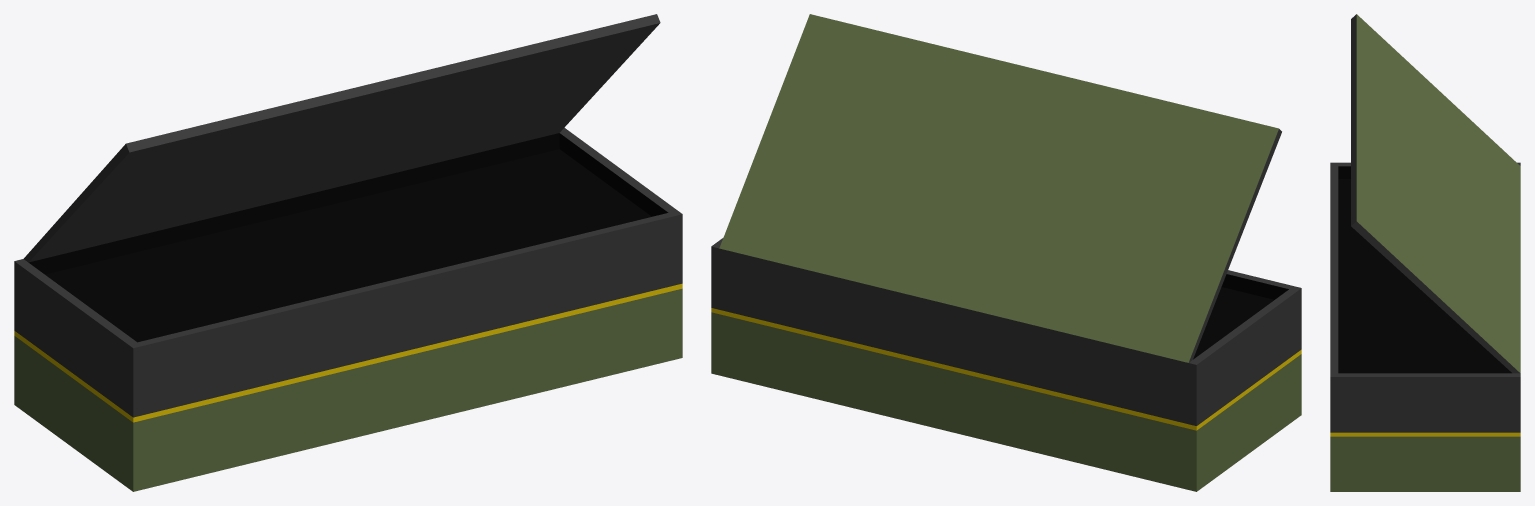
File: Box of Screws.fbx
The picture shows the model from 3 angles, left to right: view 1: azimuth 30°, elevation 25°; view 2: azimuth 150°, elevation 25°; view 3: azimuth 270°, elevation 25°; orthographic projection. The views are drawn at different scales.
Parts seen in each view (by area): view 1: Box of Screws; view 2: Box of Screws; view 3: Box of Screws.
Part boxes in pixels (bbox=[...]): Box of Screws: bbox=[14, 14, 682, 491]; Box of Screws: bbox=[711, 14, 1301, 491]; Box of Screws: bbox=[1330, 14, 1520, 491].
Bounding box in the file's own units: 20.32 × 11.81 × 7.62.
